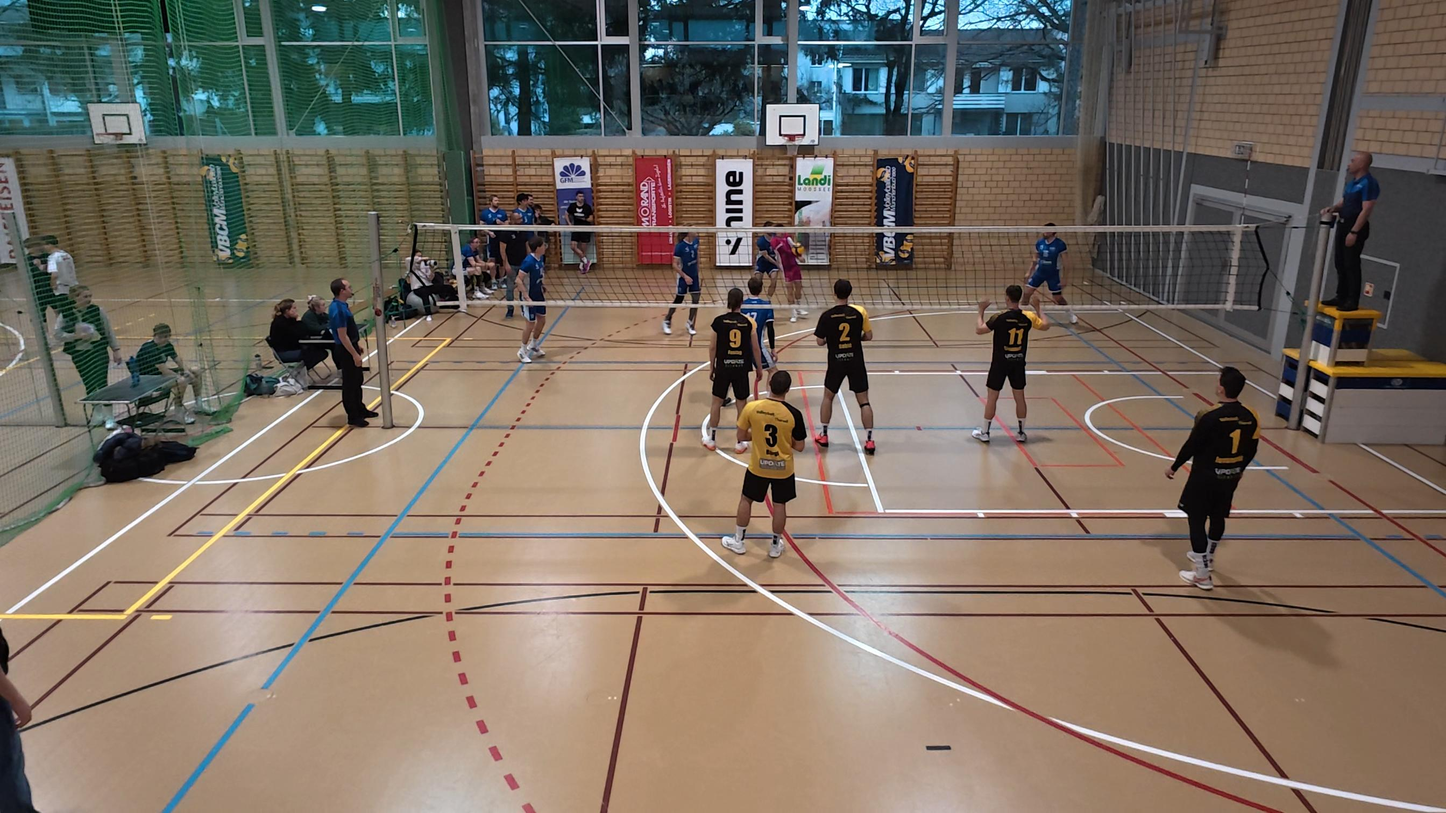Player: (1168, 367, 1261, 589), (723, 370, 806, 558), (972, 285, 1047, 443), (812, 279, 876, 453), (703, 289, 762, 452), (1026, 223, 1086, 330), (739, 269, 778, 389), (515, 237, 551, 362), (661, 227, 701, 336), (747, 221, 782, 296)
Receive: (766, 216, 809, 326)
ball: (789, 239, 808, 263)
